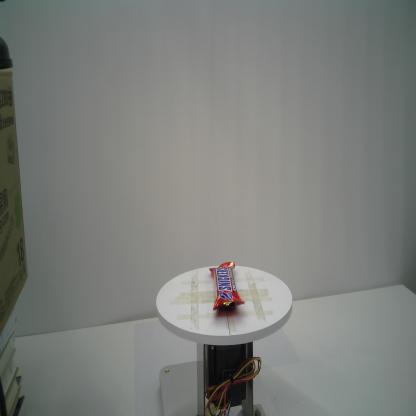Chocolate: (208, 260, 245, 311)
